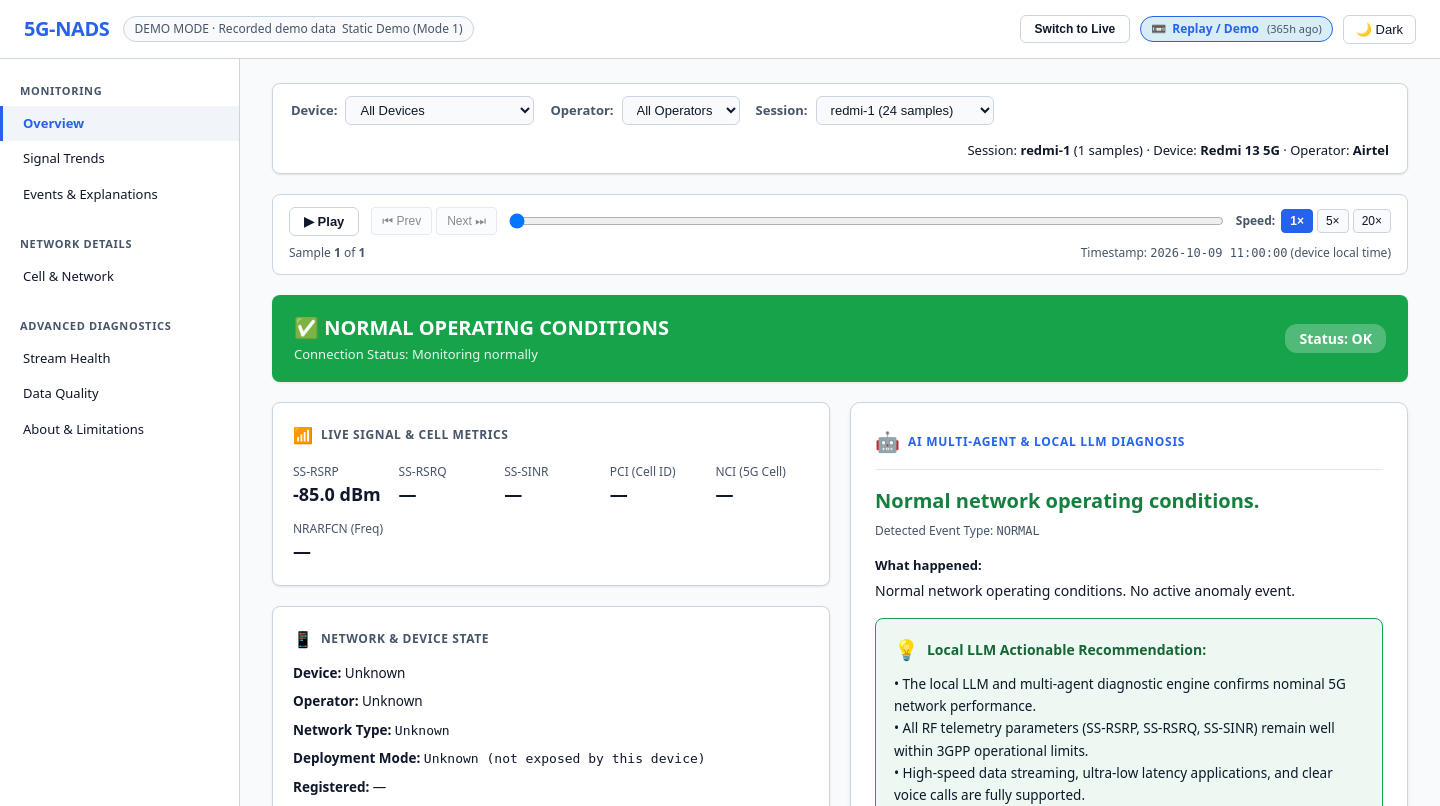
App Shell & Navigation (T16-006 / T16-007) › Mode switch and labels (T17-010) › switches between Recorded demo data and Live with always visible mode label
The width and height of the screenshot is (1440, 806).
Expected: the text "DEMO MODE · Recorded demo data" is shown, [134,20,336,38]
Expected: the text with test id "mode-label" shows "Recorded demo data", [134,20,336,37]
Click the button with test id "mode-switch-btn" at (1075, 29), box [1020,15,1130,43]
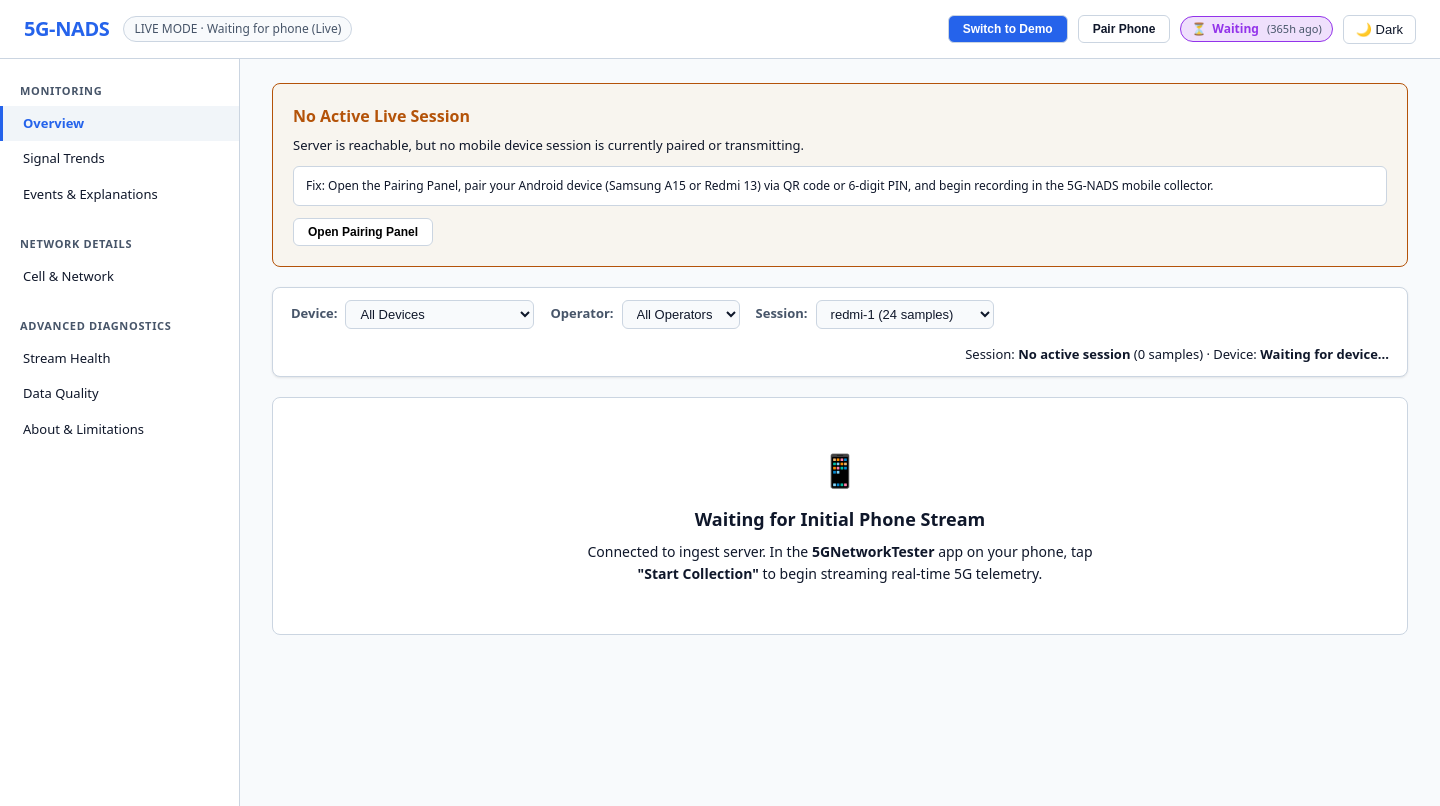
Now the text with test id "mode-label" shows "LIVE", box [134,20,341,37]
Now the button with test id "mode-switch-btn" reads "Switch to Demo"
Now the button with test id "pair-phone-btn" is shown, box [1078,15,1170,43]
Click the button with test id "mode-switch-btn" at (1008, 29), box [948,15,1068,43]
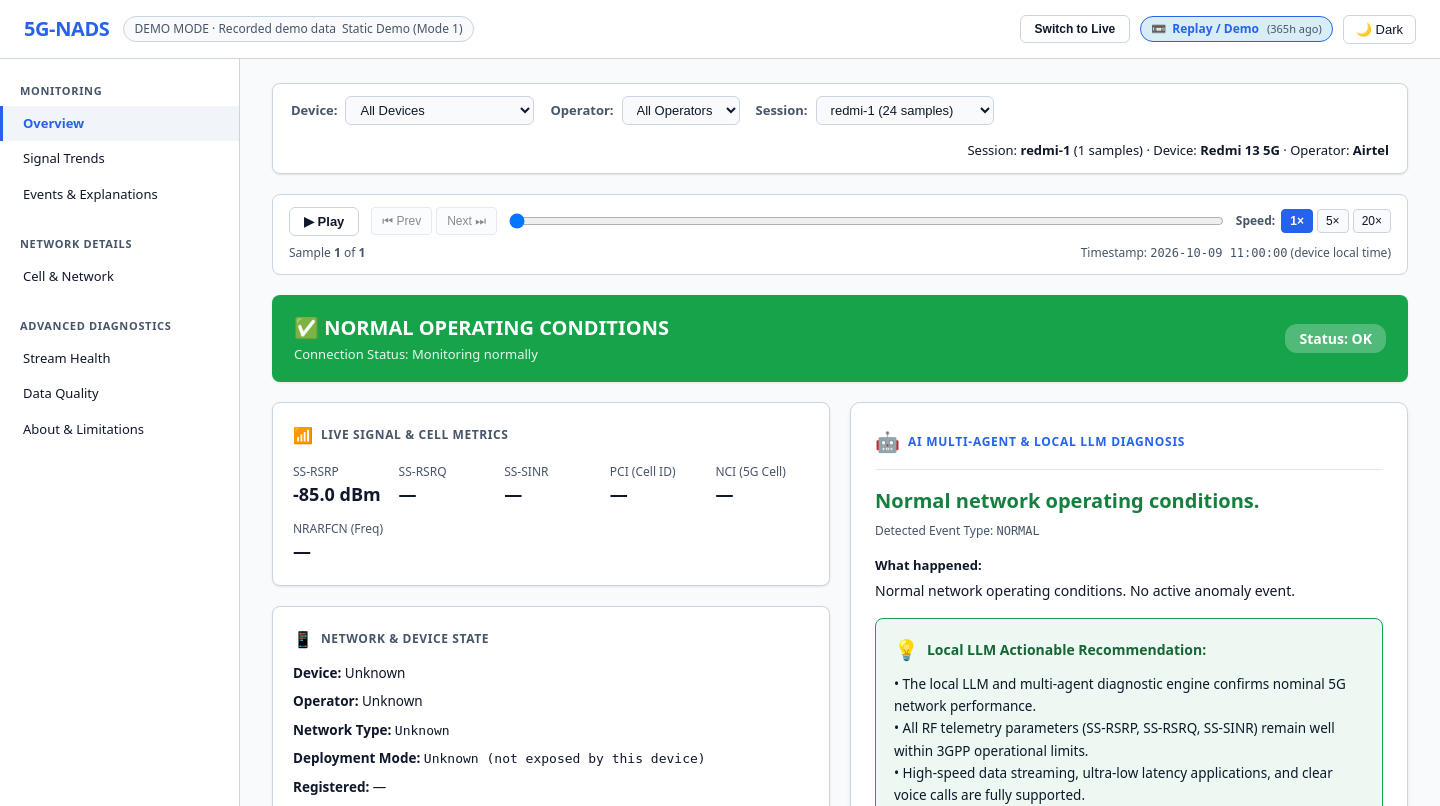
Expected: the text "DEMO MODE · Recorded demo data" is shown, [134,20,336,38]
Now the text with test id "mode-label" shows "Recorded demo data", box [134,20,336,37]
Now the button with test id "mode-switch-btn" reads "Switch to Live", box [1020,15,1130,43]
